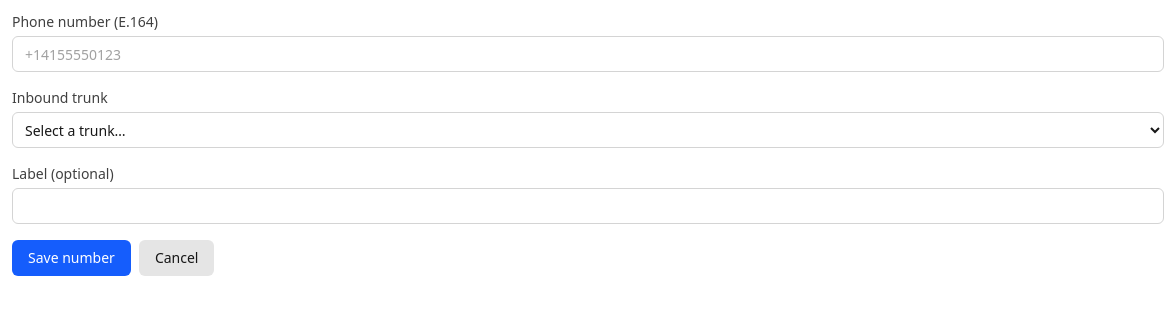
Test: NumberForm › blocks submit and shows errors when invalid
The width and height of the screenshot is (1176, 333).
Click the button "Save number": (71, 258) [12,240,131,276]
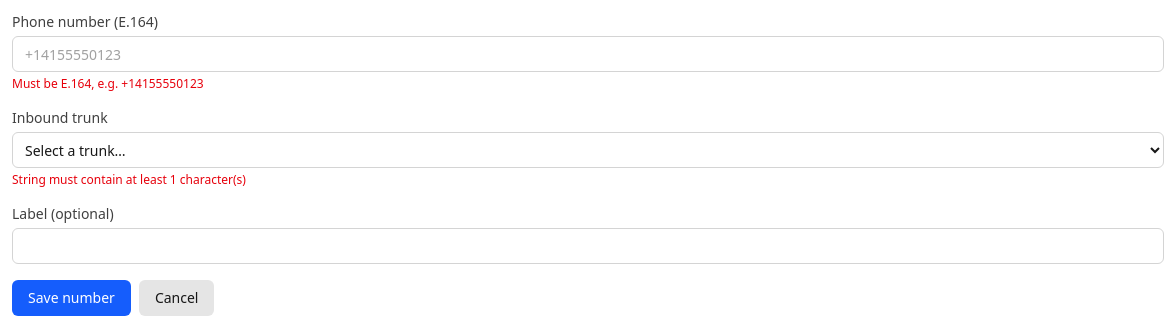
Expected: the text "Must be E.164, e.g. +14155550123" is shown, [12,75,204,92]
